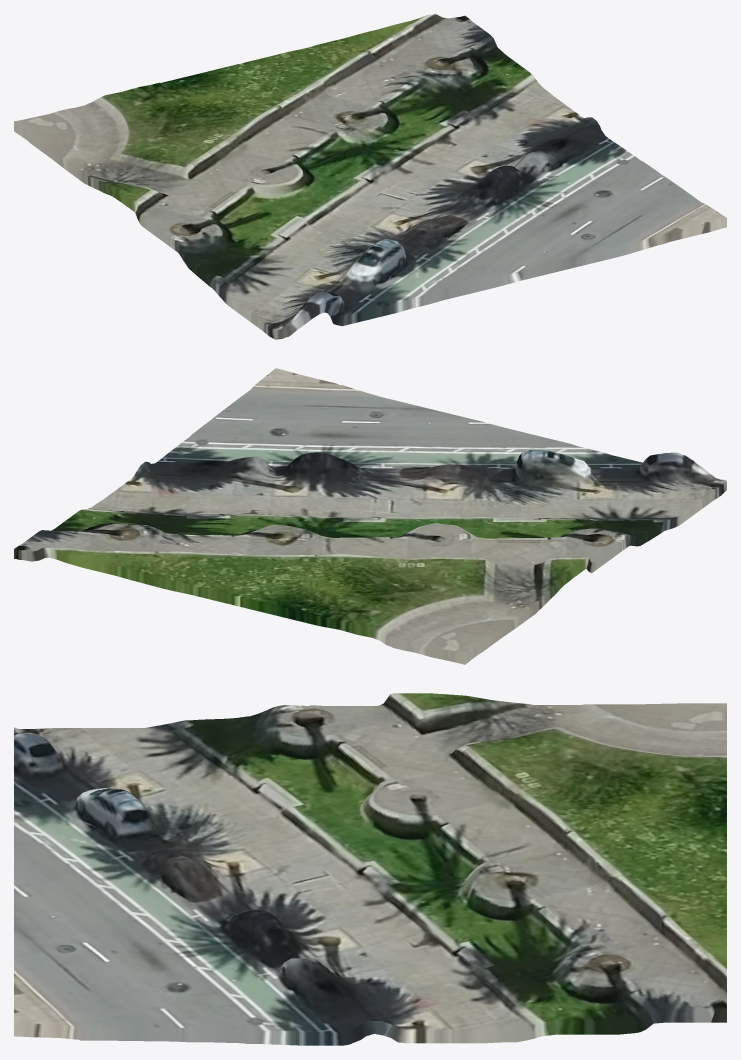
Rendered from z20-167787-405221-h0-yup-uvflip-v3-world.glb.
3 views of the same model, one above another, from view 1: azimuth 30°, elevation 25°; view 2: azimuth 150°, elevation 25°; view 3: azimuth 270°, elevation 25° (orthographic). The views are drawn at different scales.
Size of the model in its own units: 30.16 by 2.52 by 30.32.
Materials: 1 (1 with a texture image).
